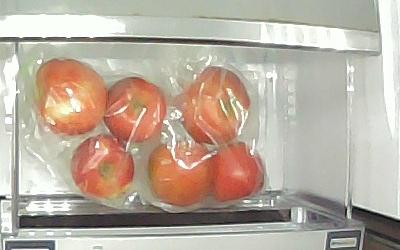apple_vinyl: (35, 57, 106, 135), (180, 65, 250, 142), (106, 76, 166, 145), (149, 141, 211, 207), (72, 136, 135, 198), (209, 142, 266, 203)
